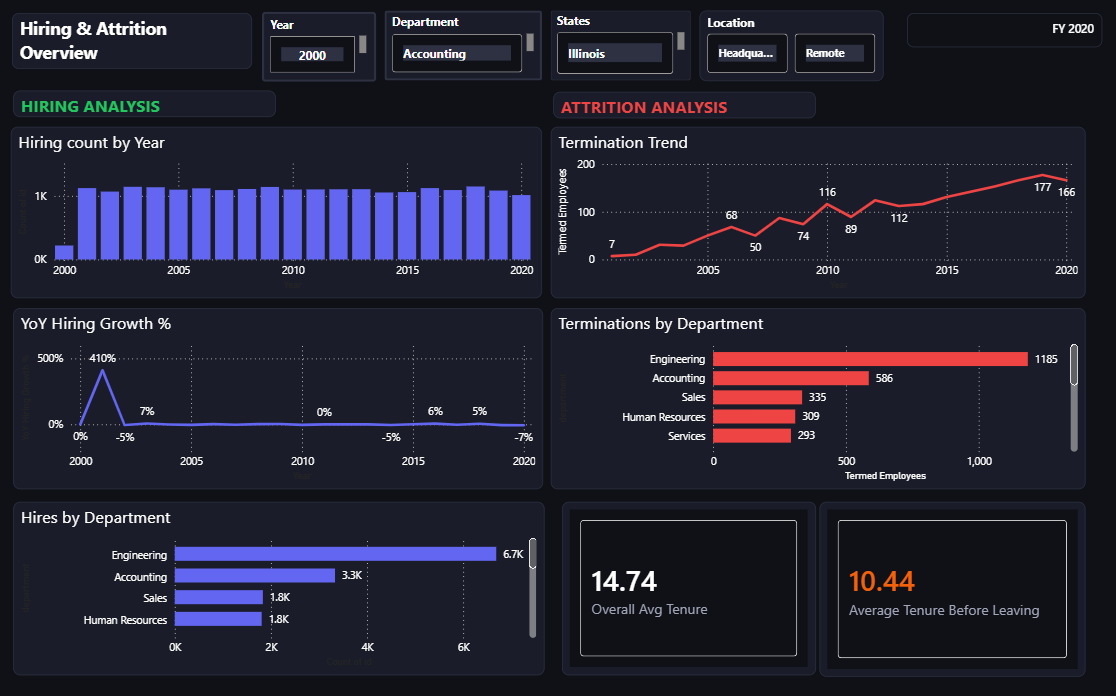

What the dashboard file says about the page in this screenshot:
{"tool":"powerbi","page":{"name":"Hiring & Attrition","canvas":[1280,800],"ordinal":2},"visuals":[{"type":"group","id":"g1","title":"Group 1","box":[303.4,14.1,710.4,81.9],"z":0},{"type":"advancedSlicerVisual","title":"Department","fields":{"Values":["project_hr_analytics HR.department"]},"box":[443.4,14.1,180,80],"z":1000,"group":"g1"},{"type":"textbox","title":"Hiring & Attrition Overview","box":[17.1,17.1,274.3,64.3],"z":1000},{"type":"advancedSlicerVisual","fields":{"Values":["Dim Date.Year"]},"box":[303.4,15.4,130,80],"z":2000,"group":"g1"},{"type":"textbox","box":[1040.6,16.6,223,39],"z":2000},{"type":"advancedSlicerVisual","title":"Location","fields":{"Values":["project_hr_analytics HR.location"]},"box":[803.4,14.1,210,81],"z":3000,"group":"g1"},{"type":"columnChart","title":"Hiring count by Year","fields":{"Category":["Dim Date.Year"],"Y":["CountNonNull(project_hr_analytics HR.id)"]},"box":[15.7,147.1,607.1,195.7],"z":3000},{"type":"advancedSlicerVisual","title":"States","fields":{"Values":["project_hr_analytics HR.location_state"]},"box":[633.4,14.1,160,80],"z":4000,"group":"g1"},{"type":"textbox","title":"HIRING ANALYSIS","box":[18.6,105.7,300,30],"z":4000},{"type":"textbox","title":"ATTRITION ANALYSIS","box":[635.7,107.1,300,30],"z":5000},{"type":"lineChart","title":"YoY Hiring Growth % ","fields":{"Category":["Dim Date.Year"],"Y":["KPI Measures.YoY Hiring Growth %"]},"box":[18.6,354.3,605.7,207.1],"z":6000},{"type":"clusteredBarChart","title":"Hires by Department","fields":{"Category":["project_hr_analytics HR.department"],"Y":["CountNonNull(project_hr_analytics HR.id)"]},"box":[18.6,575.7,607.1,198.6],"z":7000},{"type":"lineChart","title":"Termination Trend","fields":{"Y":["CountNonNull(project_hr_analytics HR.id)"],"Category":["project_hr_analytics HR.termdate.Variation.Date Hierarchy.Year"]},"box":[632.9,147.1,611.4,195.7],"z":8000},{"type":"barChart","title":"Terminations by Department","fields":{"Category":["project_hr_analytics HR.department"],"Y":["CountNonNull(project_hr_analytics HR.id)"]},"box":[632.9,354.3,611.4,207.1],"z":9000},{"type":"cardVisual","fields":{"Data":["KPI Measures.Average Tenure"]},"box":[645.7,575.7,290,198.6],"z":10000},{"type":"cardVisual","fields":{"Data":["KPI Measures.Average Tenure Before Leaving"]},"box":[940,575.7,304.3,200],"z":11000}]}

Visuals, with their boxes in screenshot pixels (x1, y1, x2, y2), scaled from the page's 1280x800 canvas onto the 1116x696 screenshot:
"Group 1" group: <region>265, 12, 884, 84</region>
"Department" advancedSlicerVisual: <region>387, 12, 544, 82</region>
"Hiring & Attrition Overview" textbox: <region>15, 15, 254, 71</region>
advancedSlicerVisual - Dim Date.Year: <region>265, 13, 378, 83</region>
textbox: <region>907, 14, 1102, 48</region>
"Location" advancedSlicerVisual: <region>700, 12, 884, 83</region>
"Hiring count by Year" columnChart: <region>14, 128, 543, 298</region>
"States" advancedSlicerVisual: <region>552, 12, 692, 82</region>
"HIRING ANALYSIS" textbox: <region>16, 92, 278, 118</region>
"ATTRITION ANALYSIS" textbox: <region>554, 93, 816, 119</region>
"YoY Hiring Growth % " lineChart: <region>16, 308, 544, 488</region>
"Hires by Department" clusteredBarChart: <region>16, 501, 546, 674</region>
"Termination Trend" lineChart: <region>552, 128, 1085, 298</region>
"Terminations by Department" barChart: <region>552, 308, 1085, 488</region>
cardVisual - KPI Measures.Average Tenure: <region>563, 501, 816, 674</region>
cardVisual - KPI Measures.Average Tenure Before Leaving: <region>820, 501, 1085, 675</region>
